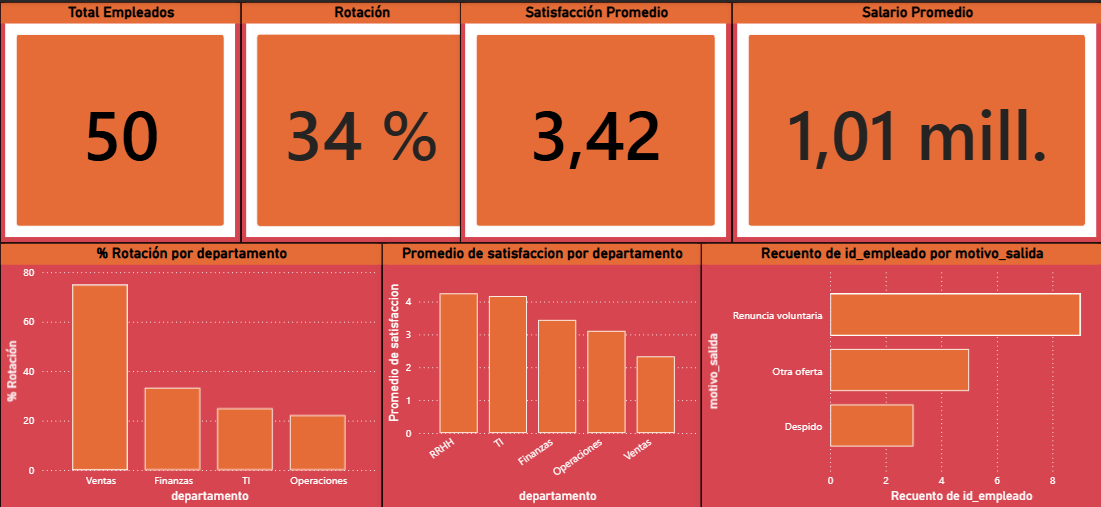

This screenshot's page, from the dashboard's own definition file:
{"tool":"powerbi","page":{"name":"Página 1","canvas":[1280,720],"ordinal":0},"visuals":[{"type":"cardVisual","title":"Total Empleados","fields":{"Data":["Count(rrhh_sample.id_empleado)"]},"box":[0,0,279.9,279.9],"z":0},{"type":"cardVisual","title":"Rotación","fields":{"Data":["rrhh_sample.% Rotación"]},"box":[279.9,0,279.9,279.9],"z":1000},{"type":"cardVisual","title":"Satisfacción Promedio","fields":{"Data":["rrhh_sample.Satisfacción Promedio"]},"box":[534.3,0,315.9,279.9],"z":2000},{"type":"cardVisual","title":"Salario Promedio","fields":{"Data":["Avg(rrhh_sample.salario)"]},"box":[850.2,0,429.8,279.9],"z":3000},{"type":"columnChart","title":"% Rotación por departamento","fields":{"Category":["rrhh_sample.departamento"],"Y":["rrhh_sample.% Rotación2"]},"box":[0,279.9,443.7,307.8],"z":4000},{"type":"columnChart","fields":{"Category":["rrhh_sample.departamento"],"Y":["Avg(rrhh_sample.satisfaccion)"]},"box":[443.7,279.9,370.5,307.8],"z":4001},{"type":"clusteredBarChart","fields":{"Category":["rrhh_sample.motivo_salida"],"Y":["CountNonNull(rrhh_sample.id_empleado)"]},"box":[814.2,279.9,465.8,307.8],"z":4002}]}

Visuals, with their boxes on the page's 1280x720 design canvas (x1, y1, x2, y2). These are canvas units, not pixel positions in the 1101x507 screenshot, which may show the page scaled, cropped or inside an application window:
"Total Empleados" cardVisual: (x1=0, y1=0, x2=280, y2=280)
"Rotación" cardVisual: (x1=280, y1=0, x2=560, y2=280)
"Satisfacción Promedio" cardVisual: (x1=534, y1=0, x2=850, y2=280)
"Salario Promedio" cardVisual: (x1=850, y1=0, x2=1280, y2=280)
"% Rotación por departamento" columnChart: (x1=0, y1=280, x2=444, y2=588)
columnChart - rrhh_sample.departamento x Avg(rrhh_sample.satisfaccion): (x1=444, y1=280, x2=814, y2=588)
clusteredBarChart - rrhh_sample.motivo_salida x CountNonNull(rrhh_sample.id_empleado): (x1=814, y1=280, x2=1280, y2=588)
